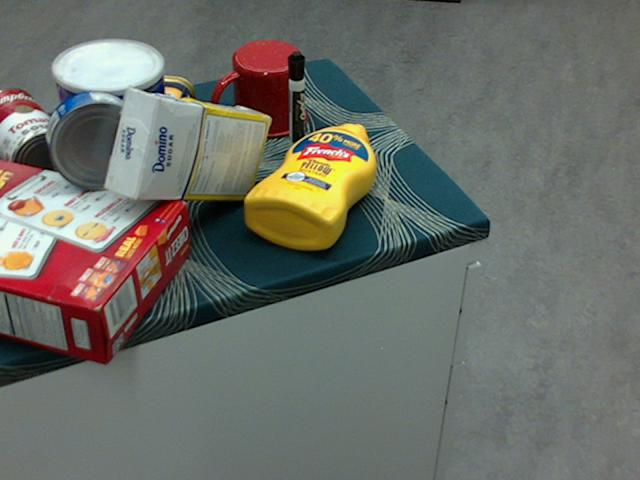cracker_box: (0, 158, 189, 361)
large_marker: (287, 51, 305, 156)
master_chef_can: (53, 40, 170, 213)
mug: (209, 41, 307, 138)
mustard_bottle: (244, 122, 377, 249)
potted_meat_can: (89, 72, 195, 157)
sugar_box: (105, 90, 269, 202)
tomato_soup_can: (0, 85, 74, 187)
tuna_fish_can: (46, 90, 147, 189)
